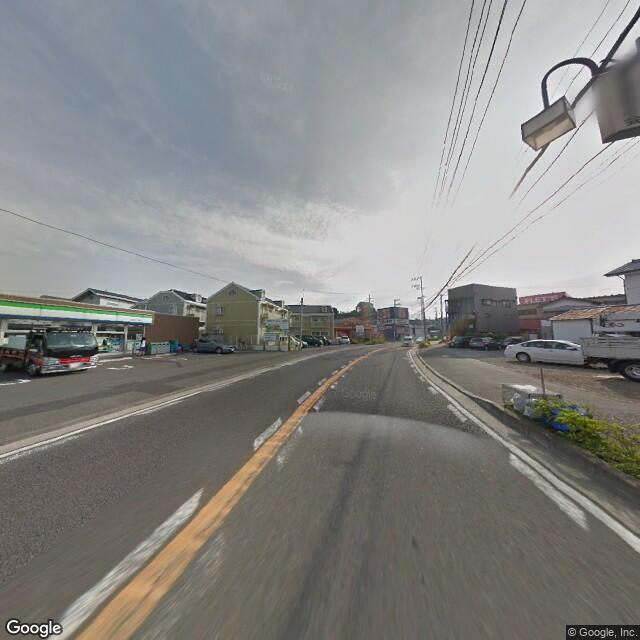family_mart: (2, 295, 152, 325)
